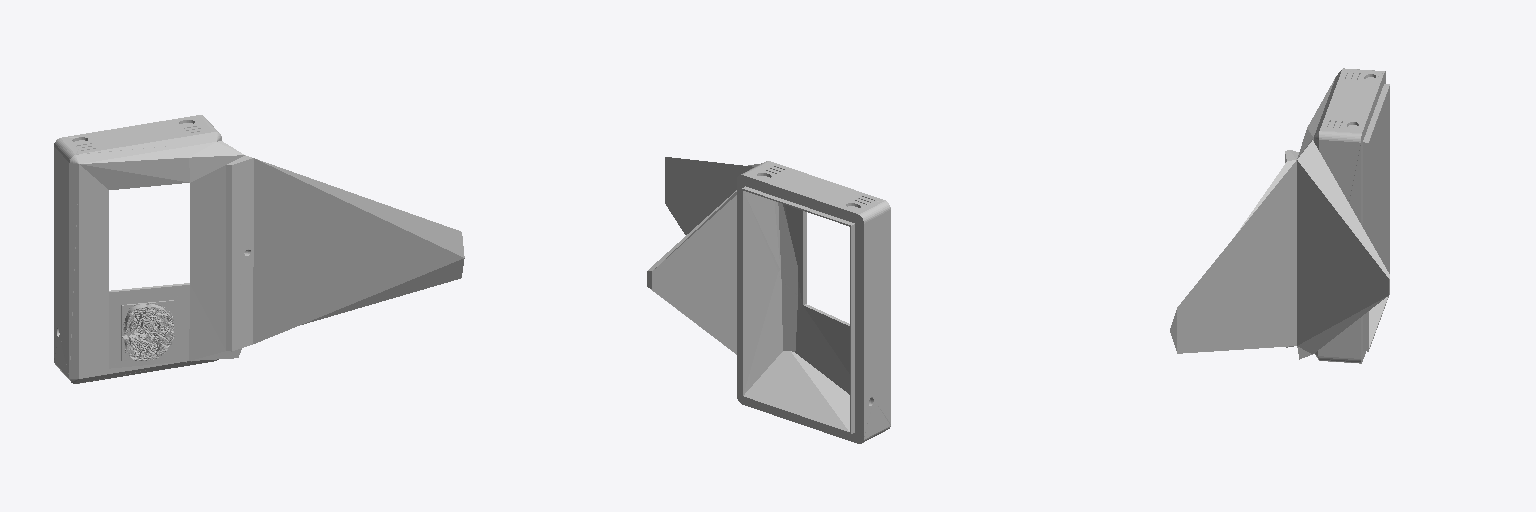
File: Holoboxv4_lid_3dbadjd.obj
The picture shows the model from 3 angles: view 1: azimuth 30°, elevation 25°; view 2: azimuth 150°, elevation 25°; view 3: azimuth 270°, elevation 25°; orthographic projection.
Parts seen in each view (by area): view 1: Object.1; view 2: Object.1; view 3: Object.1.
Boxes of the visible parts, box(x1,y1,x2,y2) form: Object.1: box(54, 115, 464, 383); Object.1: box(647, 157, 890, 443); Object.1: box(1170, 68, 1389, 363).
Bounding box in the file's own units: 219 × 155 × 135.